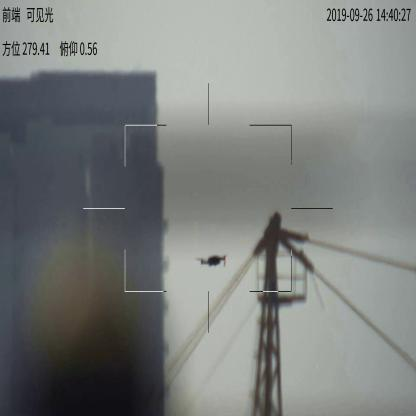uav: (195, 254, 231, 269)
